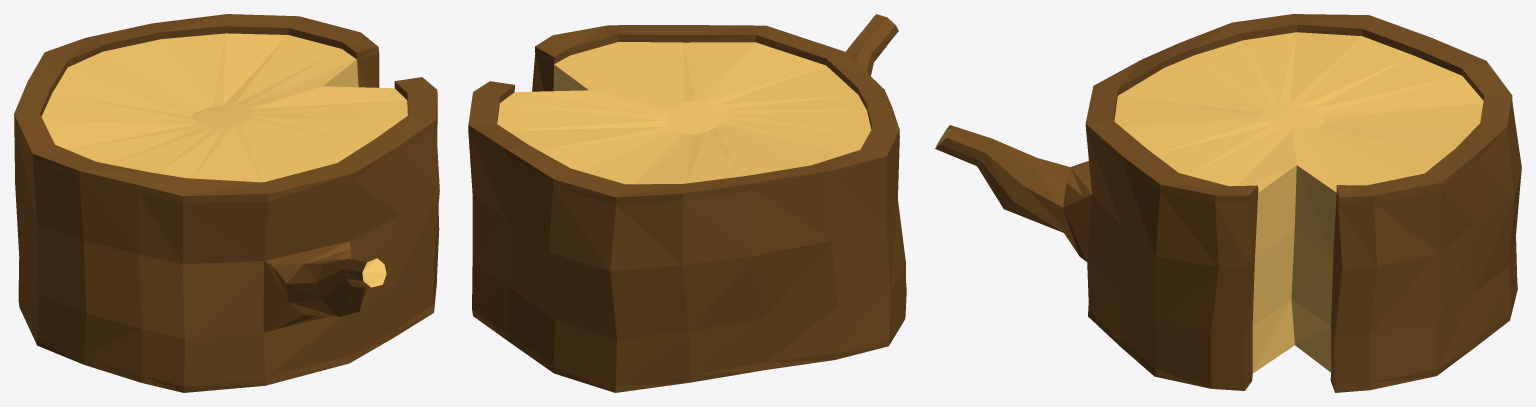
File: Log_01.FBX
3 views of the same model, side by side, from view 1: azimuth 30°, elevation 25°; view 2: azimuth 150°, elevation 25°; view 3: azimuth 270°, elevation 25° (orthographic). The views are drawn at different scales.
Visible parts, largest first — view 1: Log_01; view 2: Log_01; view 3: Log_01.
Part boxes in pixels (box(x1,y1,x2,y2)): Log_01: box(14, 14, 439, 392); Log_01: box(468, 14, 906, 392); Log_01: box(935, 14, 1521, 392).
Bounding box in the file's own units: 86.16 × 45.44 × 115.
Materials: 1 (1 with a texture image).
